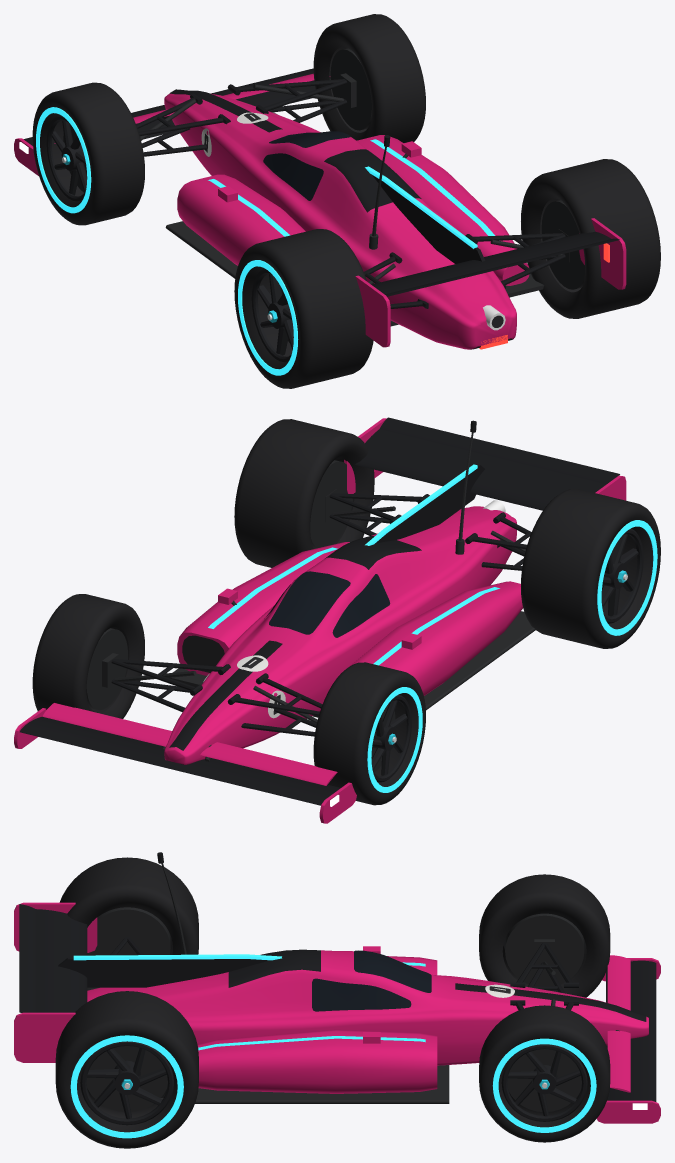
The model's file is bolt.glb.
3 views of the same model, one above another, from view 1: azimuth 30°, elevation 25°; view 2: azimuth 150°, elevation 25°; view 3: azimuth 270°, elevation 25° (orthographic). The views are drawn at different scales.
Visible parts, largest first — view 1: body, wheel_rl, wheel_rr, wheel_fl, wheel_fr; view 2: body, wheel_rl, wheel_rr, wheel_fl, wheel_fr; view 3: body, wheel_rr, wheel_fr, wheel_fl, wheel_rl.
Boxes of the visible parts, <box> form: body: <box>14,68,626,349</box>; wheel_rl: <box>234,229,373,388</box>; wheel_rr: <box>521,159,660,318</box>; wheel_fl: <box>32,82,144,225</box>; wheel_fr: <box>313,14,425,142</box>; body: <box>14,417,626,823</box>; wheel_rl: <box>521,489,660,648</box>; wheel_rr: <box>234,419,374,567</box>; wheel_fl: <box>313,662,425,805</box>; wheel_fr: <box>32,594,144,718</box>; body: <box>14,902,660,1123</box>; wheel_rr: <box>55,991,198,1148</box>; wheel_fr: <box>479,1005,610,1142</box>; wheel_fl: <box>479,874,610,997</box>; wheel_rl: <box>59,857,198,990</box>.
Size of the model in its own units: 1.33 by 0.7201 by 2.17.
